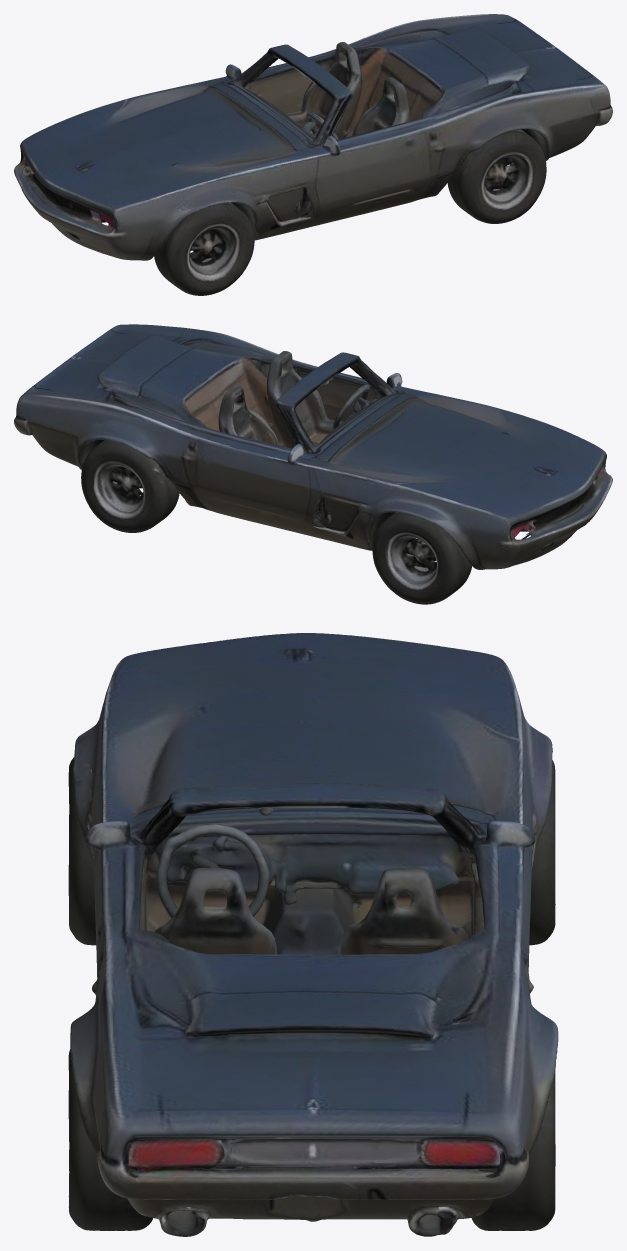
The model's file is car_brawler.glb.
3 views of the same model, one above another, from view 1: azimuth 30°, elevation 25°; view 2: azimuth 150°, elevation 25°; view 3: azimuth 270°, elevation 25° (orthographic). The views are drawn at different scales.
Visible parts, largest first — view 1: tripo_node_0f2a85b4-1026-40b5-9b77-507800fbee1a; view 2: tripo_node_0f2a85b4-1026-40b5-9b77-507800fbee1a; view 3: tripo_node_0f2a85b4-1026-40b5-9b77-507800fbee1a.
Boxes of the visible parts, x1=… form: tripo_node_0f2a85b4-1026-40b5-9b77-507800fbee1a: x1=14, y1=14, x2=612, y2=295; tripo_node_0f2a85b4-1026-40b5-9b77-507800fbee1a: x1=14, y1=324, x2=612, y2=604; tripo_node_0f2a85b4-1026-40b5-9b77-507800fbee1a: x1=68, y1=633, x2=558, y2=1236.
Size of the model in its own units: 1 by 0.2693 by 0.4023.
Materials: 1 (1 with a texture image).
